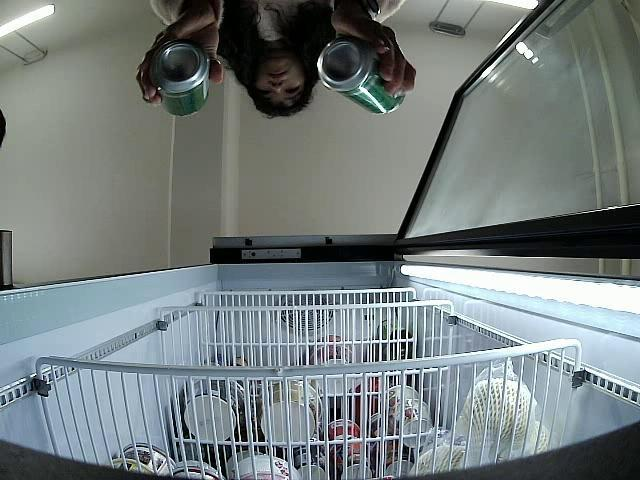12_chilsungCider: (317, 38, 404, 114), (152, 36, 210, 119)
